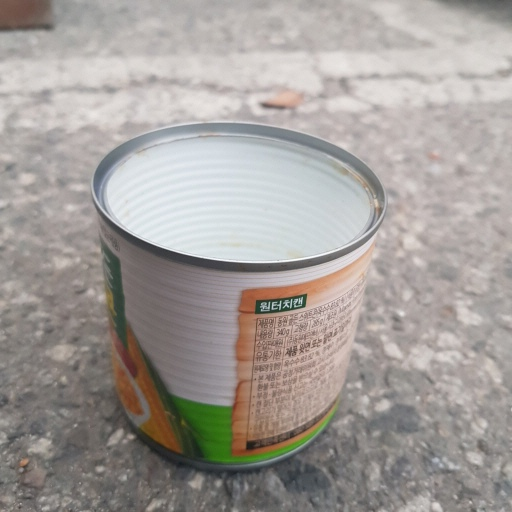Metal_1: (88, 119, 385, 473)
